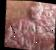plaque psoriasis: (1, 15, 56, 50), (24, 0, 56, 41)
